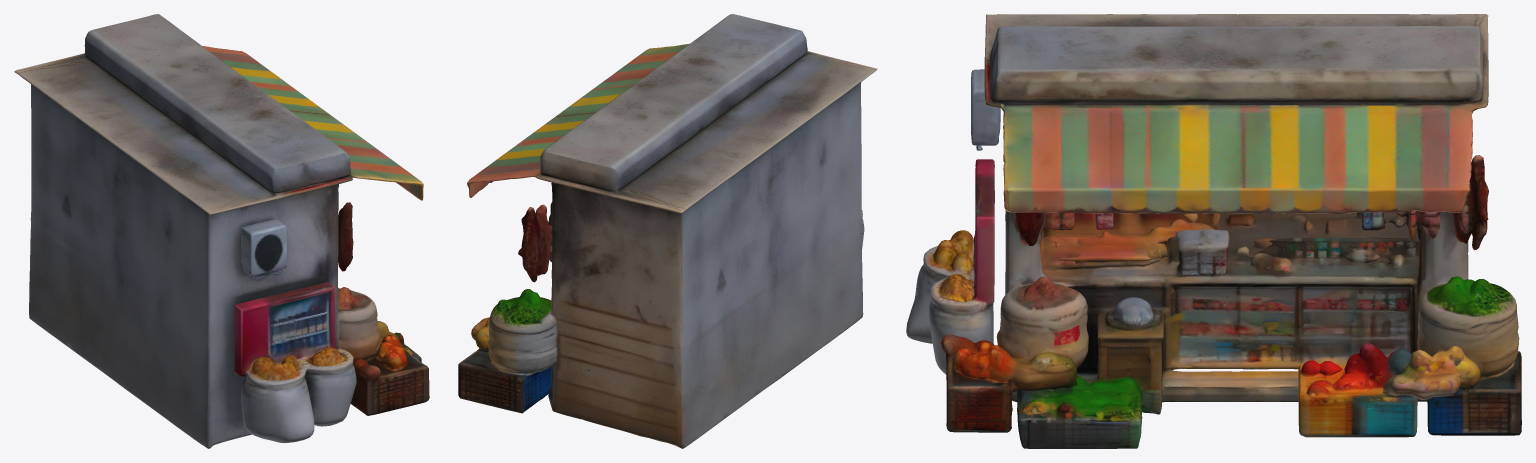
The picture shows the model from 3 angles, left to right: view 1: azimuth 30°, elevation 25°; view 2: azimuth 150°, elevation 25°; view 3: azimuth 270°, elevation 25°; orthographic projection. The views are drawn at different scales.
Visible parts, largest first — view 1: tripo_node_266ea943-125a-4c49-88ab-4c889b6c62e7; view 2: tripo_node_266ea943-125a-4c49-88ab-4c889b6c62e7; view 3: tripo_node_266ea943-125a-4c49-88ab-4c889b6c62e7.
Boxes of the visible parts, box(x1,y1,x2,y2) form: tripo_node_266ea943-125a-4c49-88ab-4c889b6c62e7: box(14, 14, 429, 448); tripo_node_266ea943-125a-4c49-88ab-4c889b6c62e7: box(458, 14, 877, 448); tripo_node_266ea943-125a-4c49-88ab-4c889b6c62e7: box(906, 14, 1521, 448).
Bounding box in the file's own units: 0.5187 × 0.5889 × 0.9507.
1 material, 1 textured.
